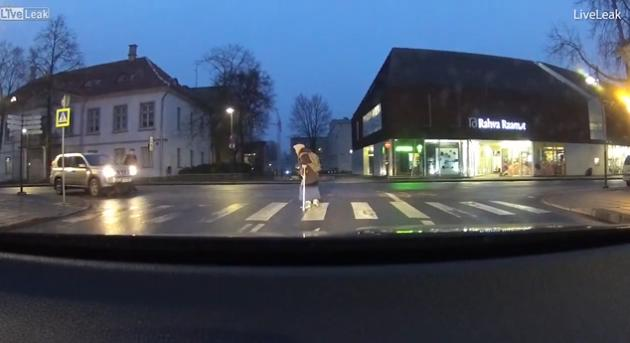crutches: (293, 144, 321, 211)
